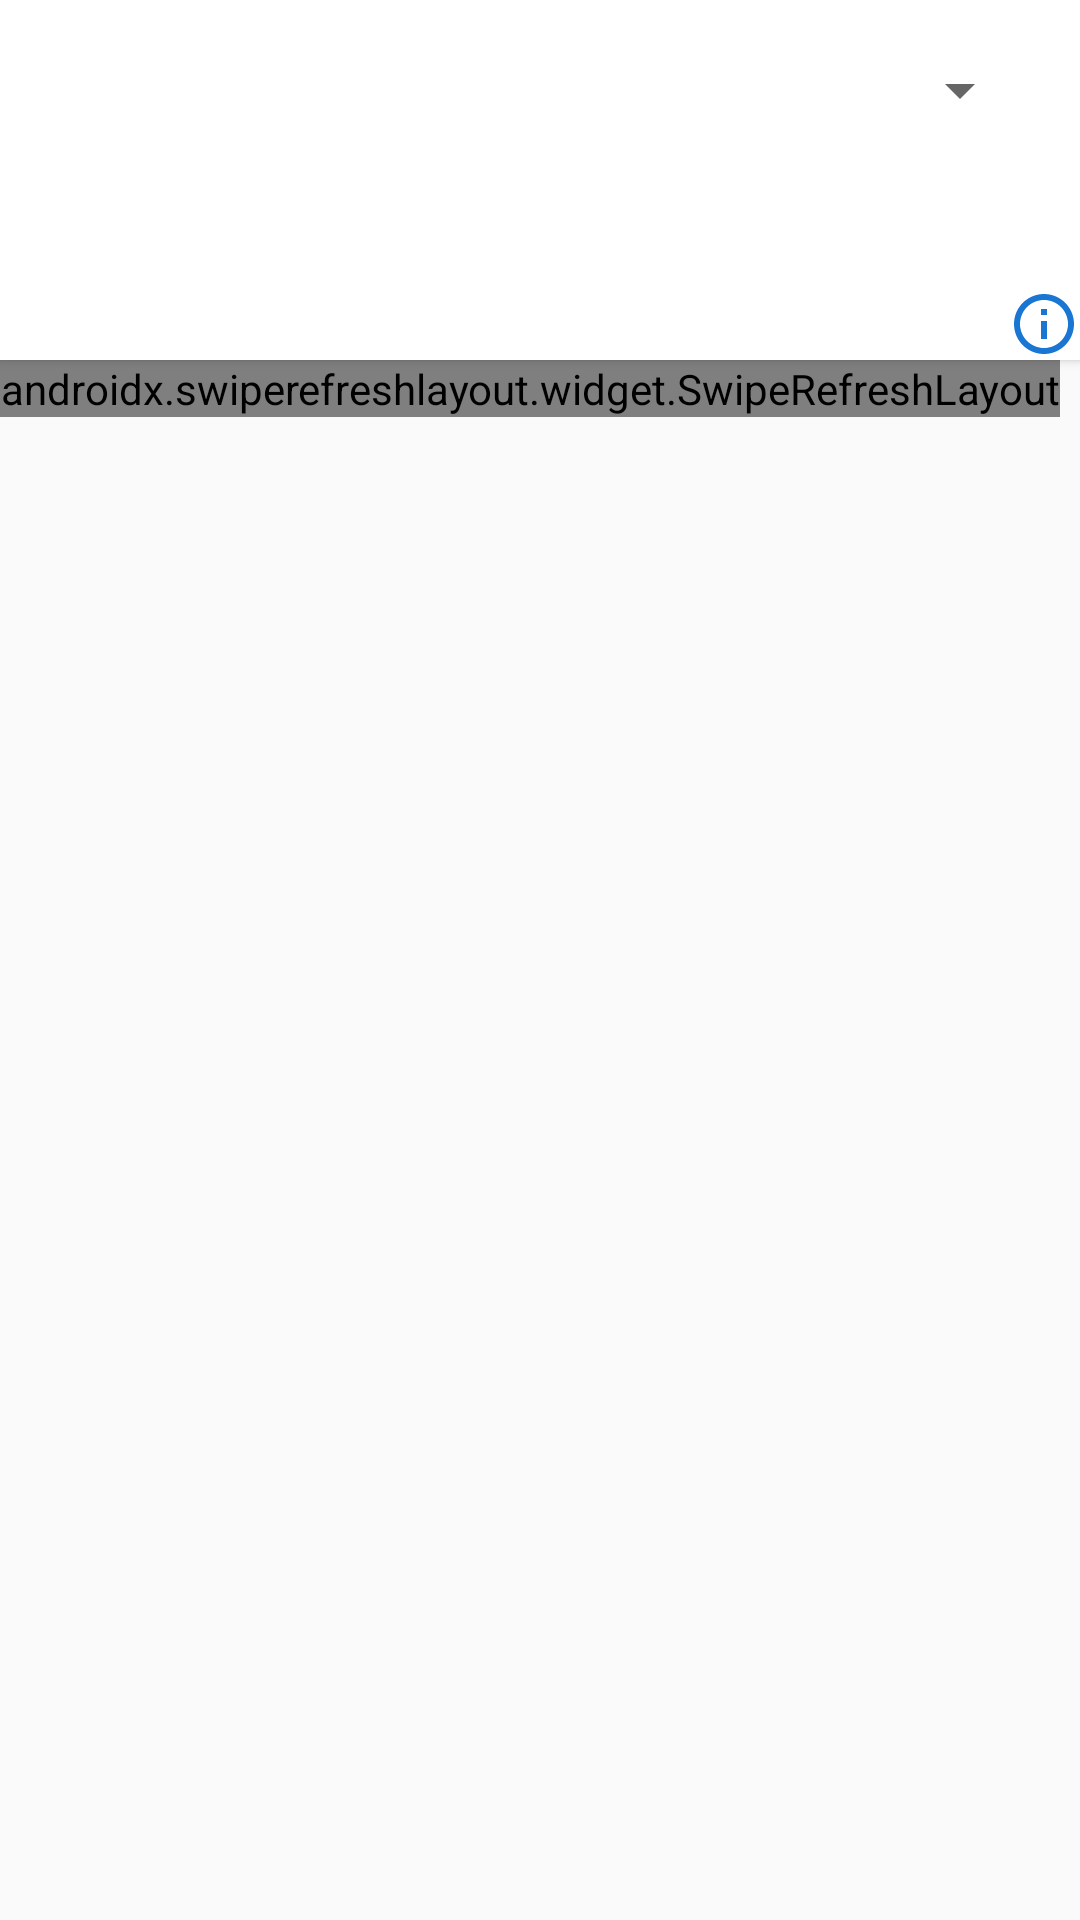

Where to tap for icons on this 1080×1920 app screen, as [x,y]:
info: [1044,324]
